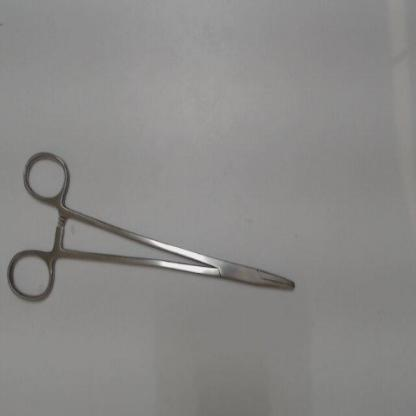8 Mayo Needle Holder: (3, 143, 304, 314)
